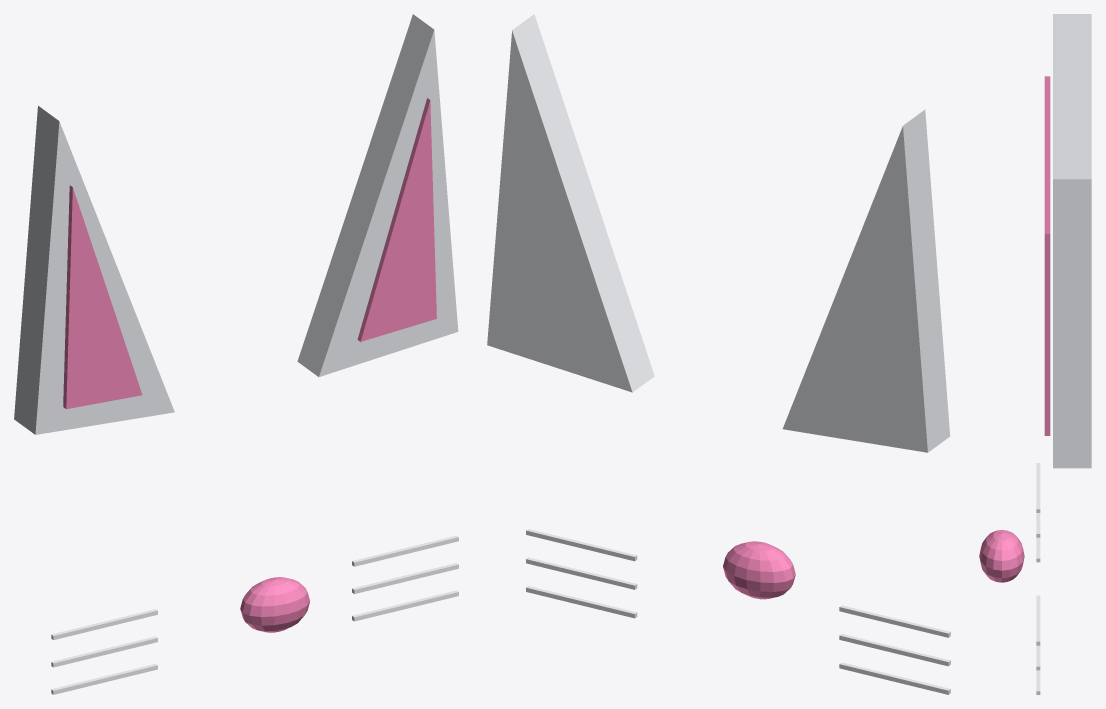
File: bunny.glb
The picture shows the model from 3 angles, left to right: view 1: azimuth 30°, elevation 25°; view 2: azimuth 150°, elevation 25°; view 3: azimuth 270°, elevation 25°; orthographic projection. The views are drawn at different scales.
Parts seen in each view (by area): view 1: bunny ear (×2), bunny ear inner (×2), whisker (×6), nose; view 2: bunny ear (×2), whisker (×6), nose; view 3: bunny ear (×2), bunny ear inner (×2), nose, whisker (×2).
Boxes of the visible parts, x1,y1,x2,y2 form: bunny ear (×2): (14, 14, 458, 434); bunny ear inner (×2): (63, 98, 436, 409); whisker (×6): (51, 535, 458, 694); nose: (240, 577, 309, 632); bunny ear (×2): (487, 14, 950, 452); whisker (×6): (526, 529, 950, 694); nose: (723, 541, 795, 599); bunny ear (×2): (1053, 14, 1091, 468); bunny ear inner (×2): (1044, 76, 1050, 435); nose: (979, 530, 1024, 582); whisker (×2): (1036, 463, 1040, 645).
Size of the model in its own units: 1.94 by 2.47 by 0.495.
